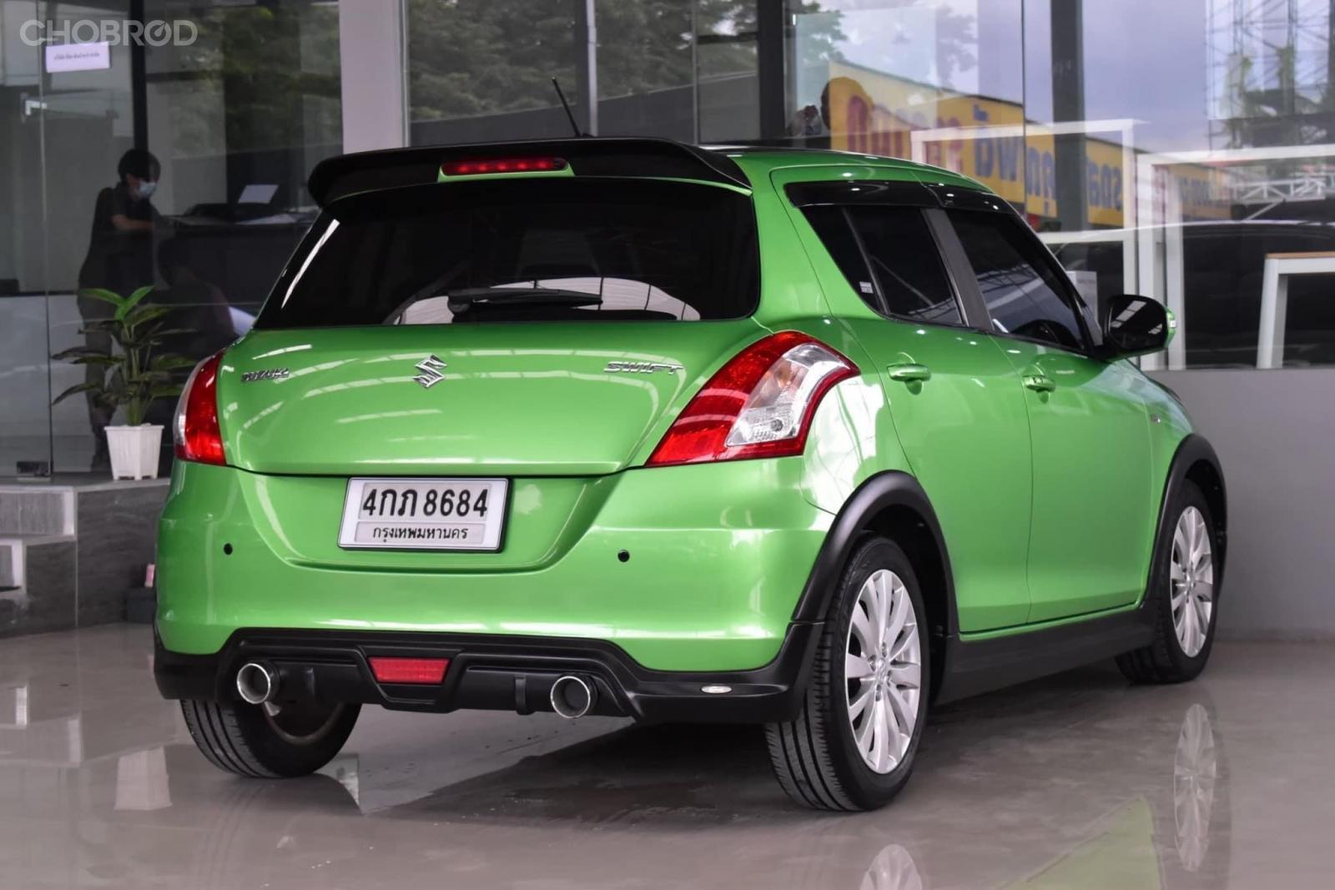license-plate: (339, 473, 512, 558)
